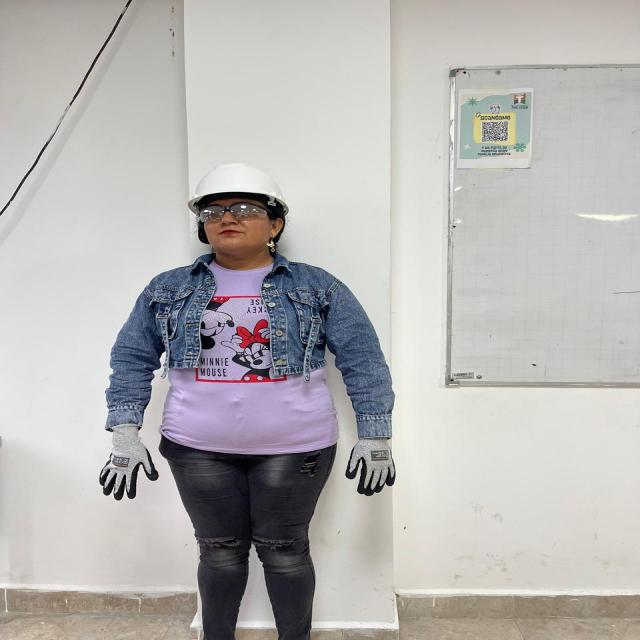gloves: (99, 423, 158, 501), (345, 437, 395, 496)
helmet: (188, 162, 291, 210)
protective_glasses: (198, 202, 271, 223)
